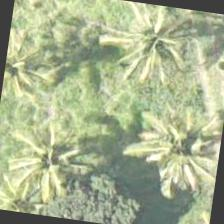Kelapa_Sawit: (3, 111, 104, 212), (133, 91, 223, 193), (108, 0, 209, 90), (0, 19, 66, 117), (0, 155, 72, 218)
